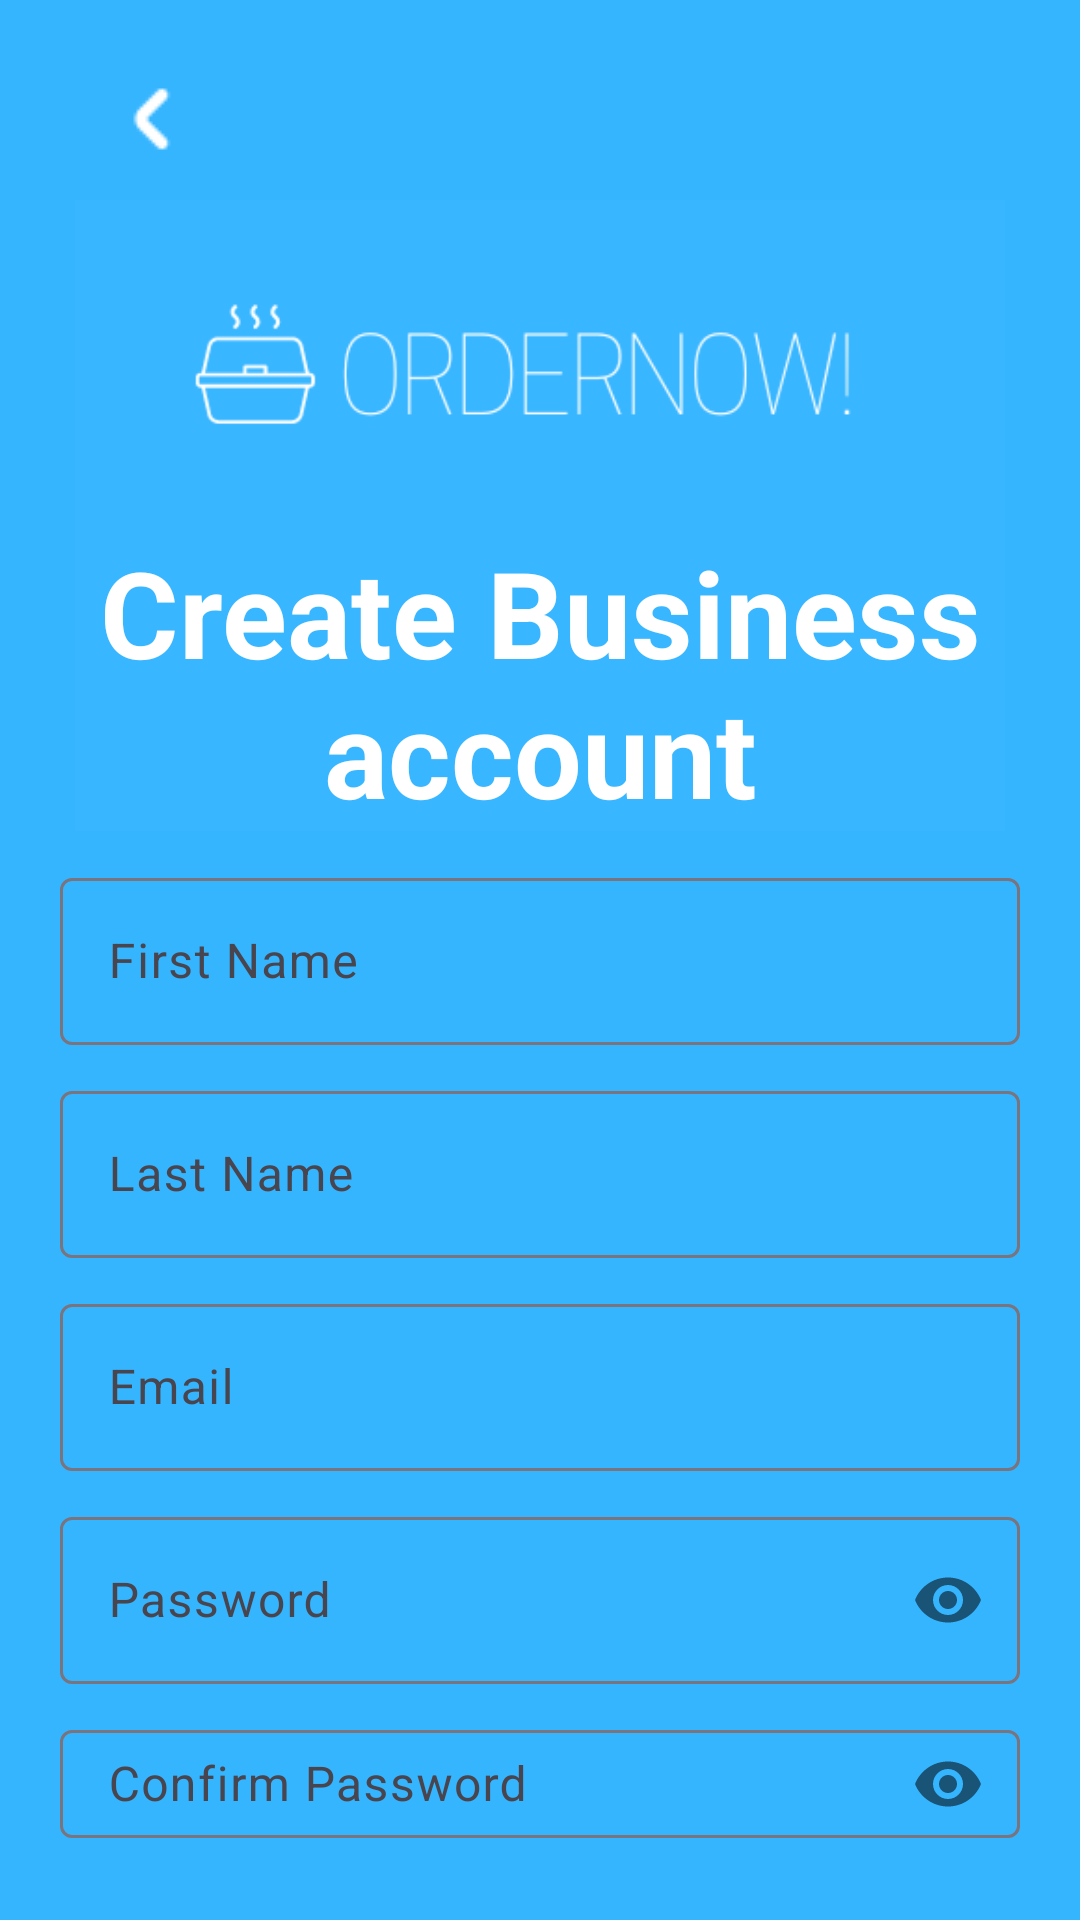

Screen size 1080×1920. Icon name, then its box in pixels as (x1, y1, x2, y2):
Go back: (133, 88, 170, 150)
